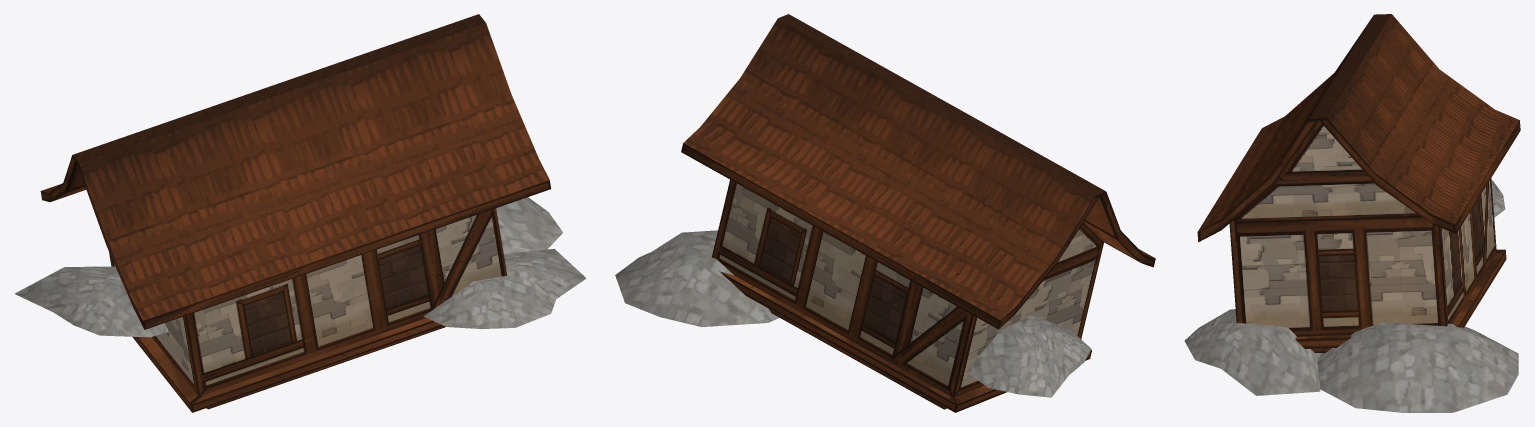
The model's file is HouseOvergrown1.fbx.
3 views of the same model, side by side, from view 1: azimuth 30°, elevation 25°; view 2: azimuth 150°, elevation 25°; view 3: azimuth 270°, elevation 25° (orthographic). The views are drawn at different scales.
Parts seen in each view (by area): view 1: HouseOvergrown1, HouseOvergrown1_col; view 2: HouseOvergrown1, HouseOvergrown1_col; view 3: HouseOvergrown1, HouseOvergrown1_col.
Part boxes in pixels (box(x1,y1,x2,y2)): HouseOvergrown1: box(14, 14, 586, 412); HouseOvergrown1_col: box(112, 209, 507, 396); HouseOvergrown1: box(615, 14, 1155, 412); HouseOvergrown1_col: box(711, 182, 1103, 396); HouseOvergrown1: box(1184, 14, 1520, 412); HouseOvergrown1_col: box(1230, 123, 1496, 335).
Bounding box in the file's own units: 1925 × 1167 × 1194.
